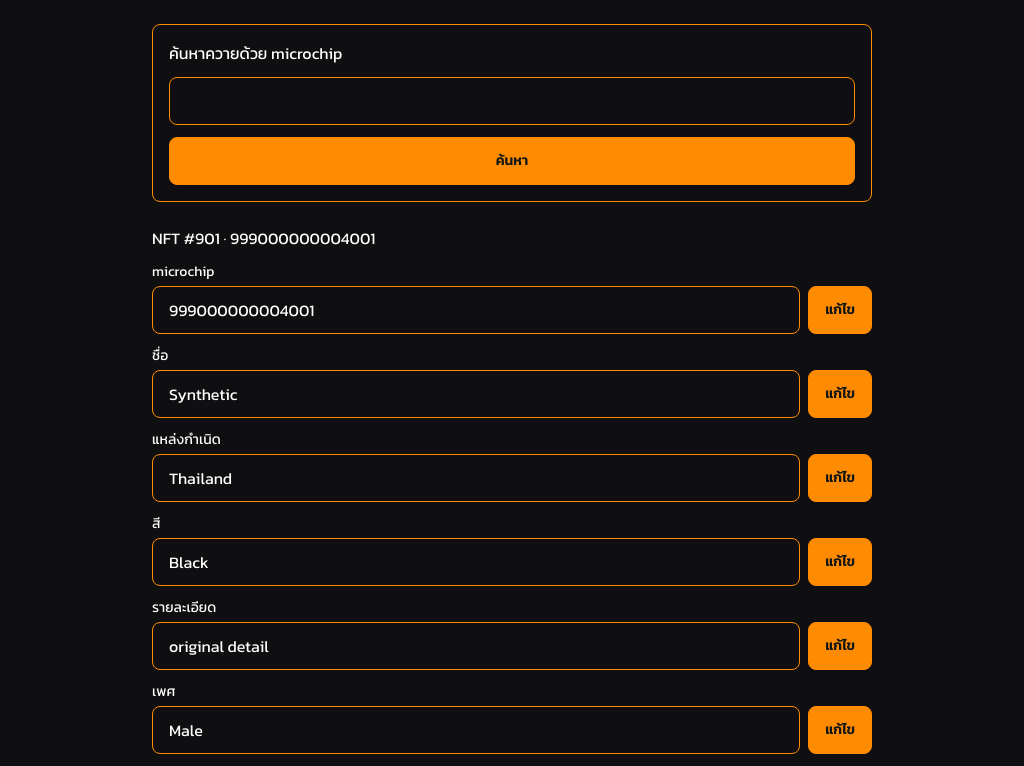
saved edit leaves the input dialog before slow preparation and shows waiting guidance
Click the button with aria-label "แก้ไขชื่อ" at (840, 394), box [808,370,872,418]
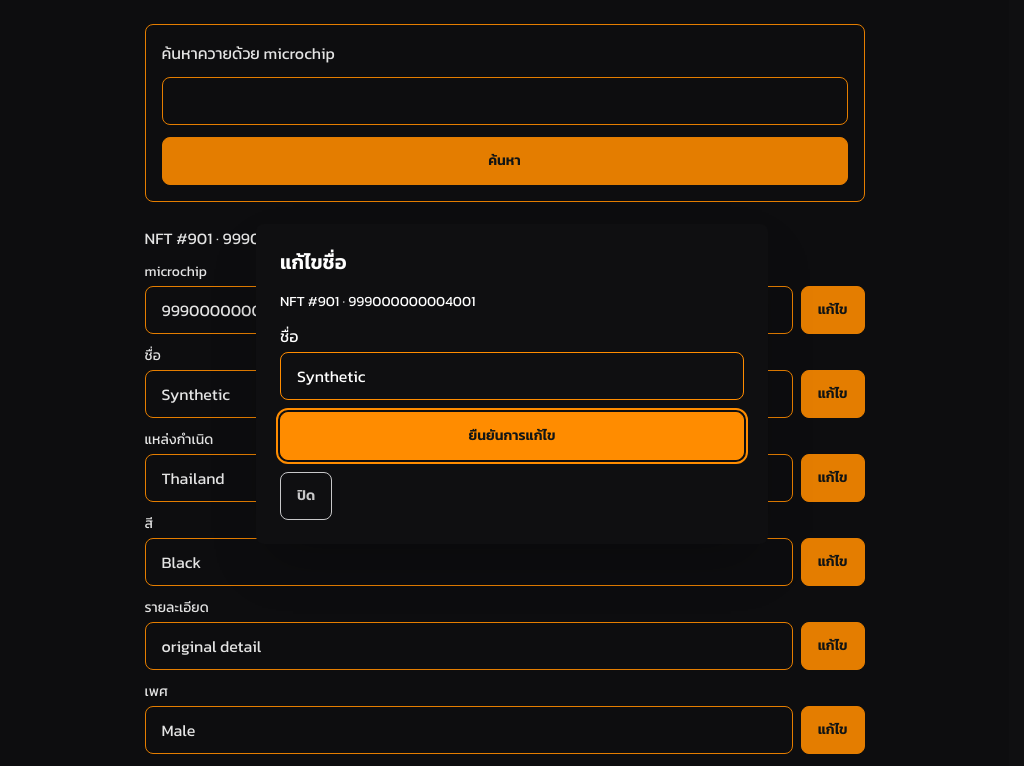
Replace the text in the field with id "edit-value" with "new name" at (512, 376), box [280,352,744,400]
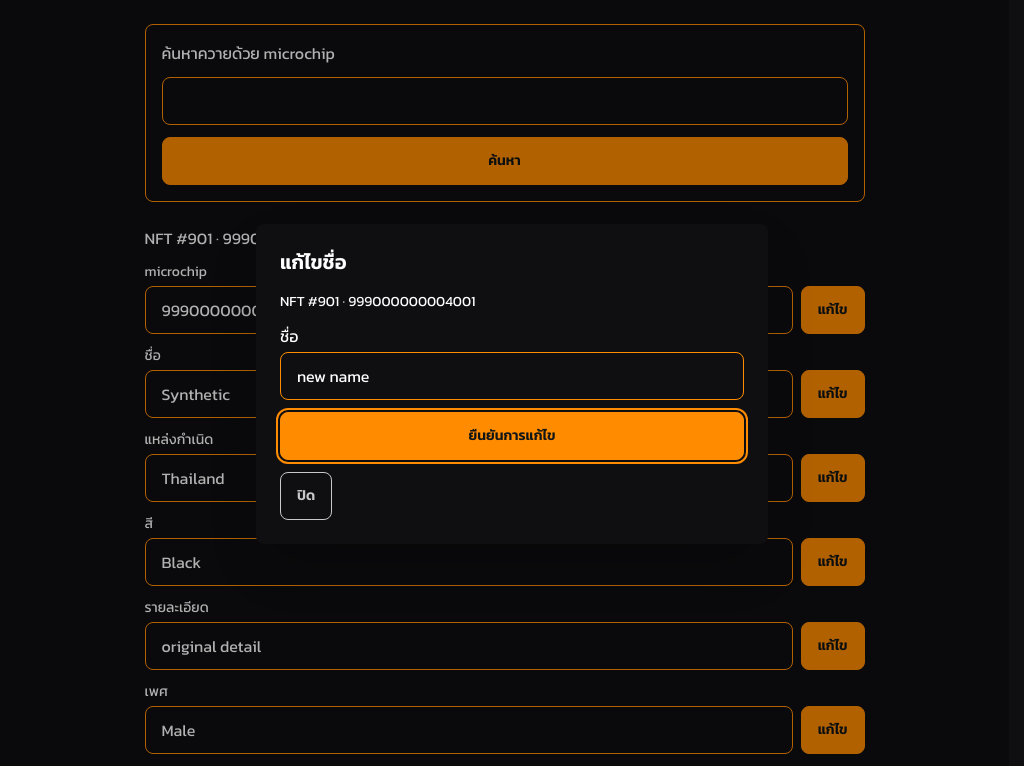
Click the button "ยืนยันการแก้ไข" at (512, 436), box [280,412,744,460]
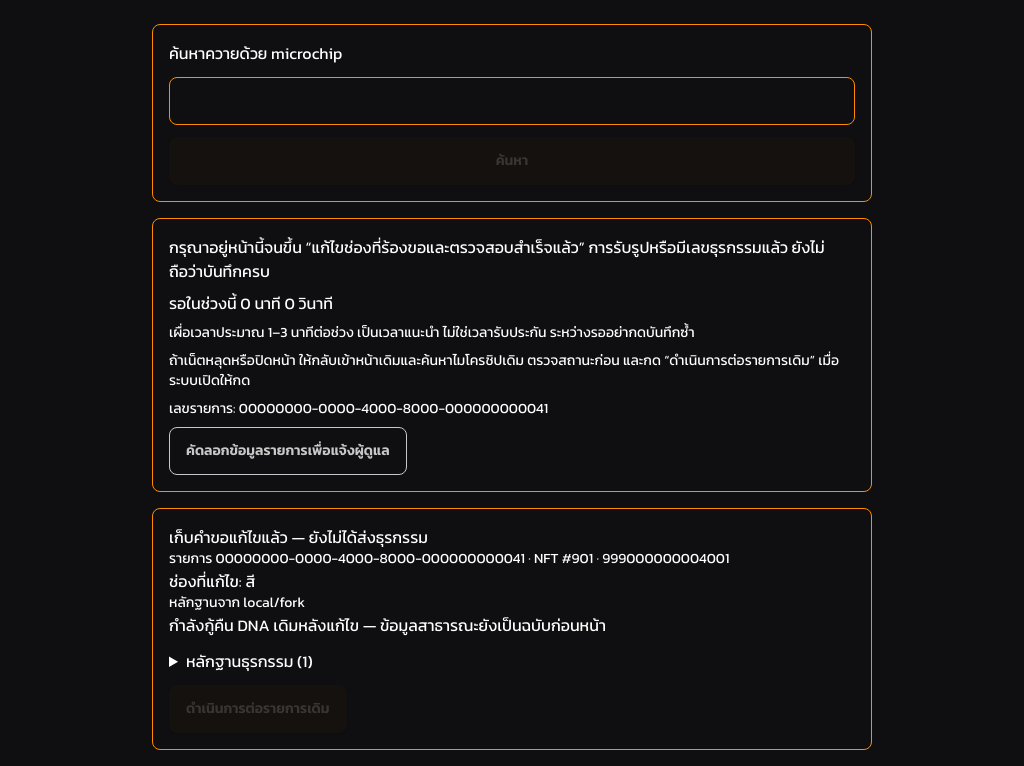
Check: the text "กรุณาอยู่หน้านี้จนขึ้น" is shown, box [169,235,312,259]
